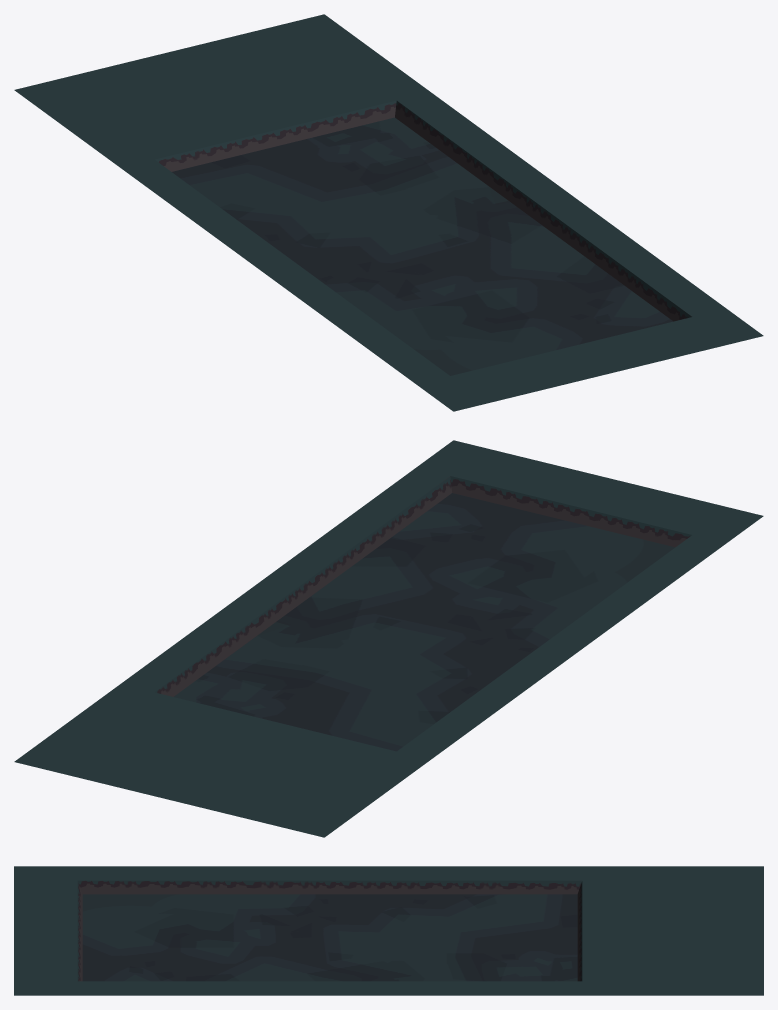
Rendered from корыто3.0.fbx.
3 views of the same model, one above another, from view 1: azimuth 30°, elevation 25°; view 2: azimuth 150°, elevation 25°; view 3: azimuth 270°, elevation 25° (orthographic). The views are drawn at different scales.
Visible parts, largest first — view 1: polySurface28; view 2: polySurface28; view 3: polySurface28.
Boxes of the visible parts, x1=… form: polySurface28: x1=14, y1=14, x2=763, y2=411; polySurface28: x1=14, y1=440, x2=763, y2=837; polySurface28: x1=14, y1=866, x2=763, y2=995.
Bounding box in the file's own units: 23.37 × 0.9927 × 57.31.
